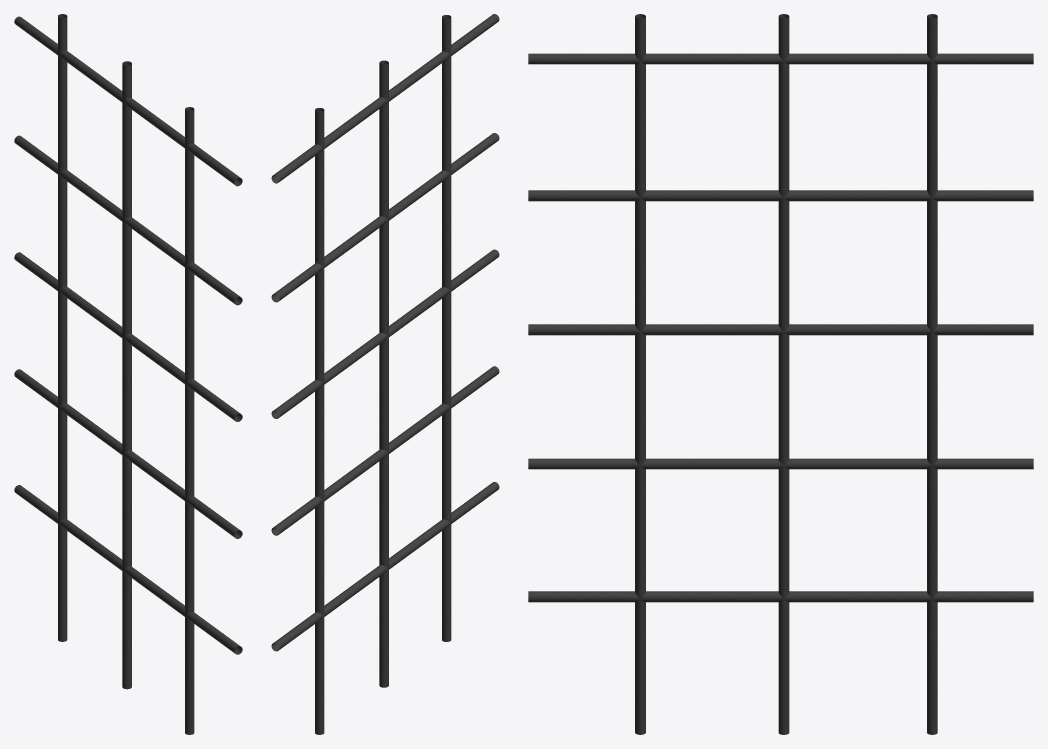
File: Door_NotWide.fbx
3 renders of one model, left to right at view 1: azimuth 30°, elevation 25°; view 2: azimuth 150°, elevation 25°; view 3: azimuth 270°, elevation 25°, orthographic. The views are drawn at different scales.
Parts seen in each view (by area): view 1: gate; view 2: gate; view 3: gate.
Boxes of the visible parts, <box> form: gate: <box>14,14,242,734</box>; gate: <box>271,14,499,734</box>; gate: <box>528,14,1033,734</box>.
Bounding box in the file's own units: 7.4 × 536 × 343.
